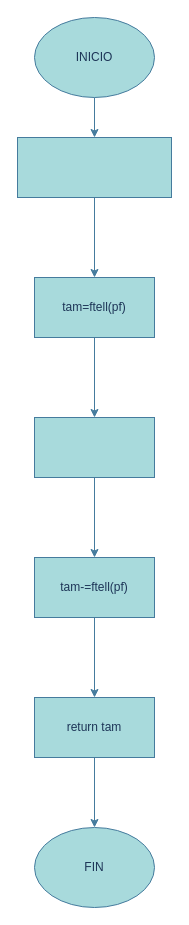
This 189x925 diagram has some shape labels left out. Each missing label, with the centre of its shape:
fseek(pf,0,SEEK_END): the point at 94,167
fseek(pf,0,SEEK_SET): the point at 94,447
